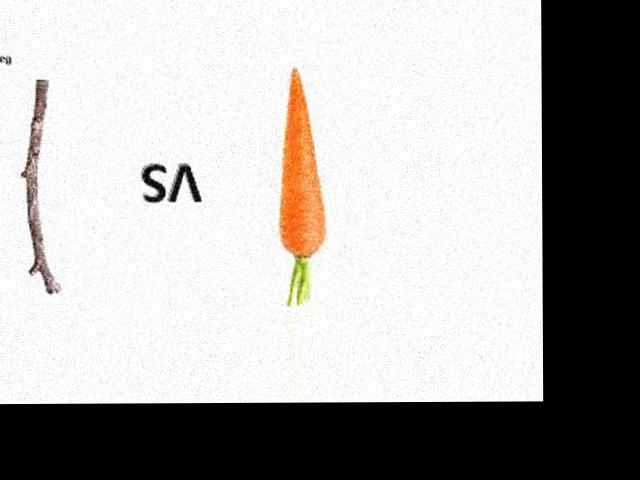carrot: (264, 61, 334, 262)
